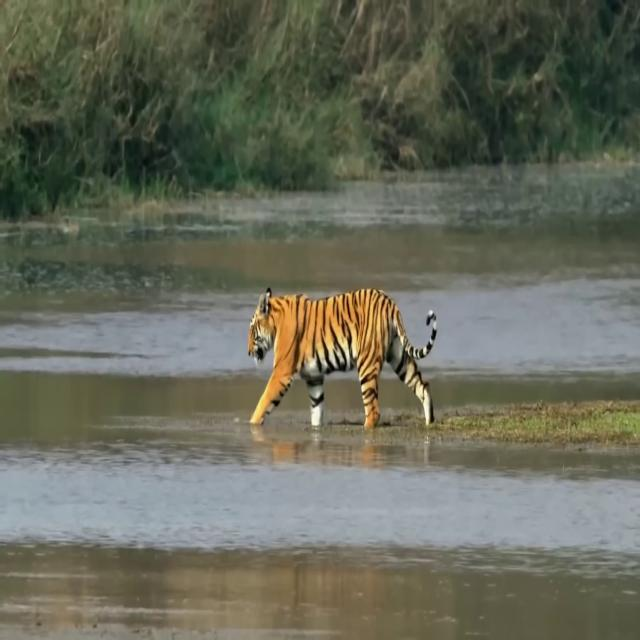tiger: (247, 287, 437, 429)
